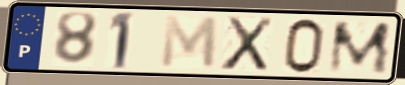0: (282, 17, 327, 75)
1: (108, 11, 137, 71)
8: (51, 10, 101, 68)
M: (326, 20, 394, 75), (159, 14, 220, 71)
X: (219, 15, 277, 73)
